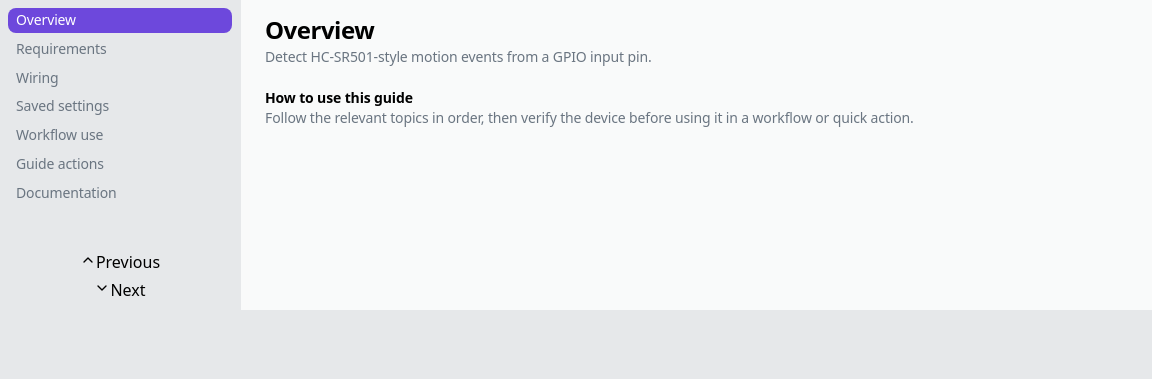
Test case: StandardDeviceSetupGuide › uses the configured PIR pin and shows GPIO debounce in saved settings
Click the button "Wiring": (120, 78) [8,66,232,90]
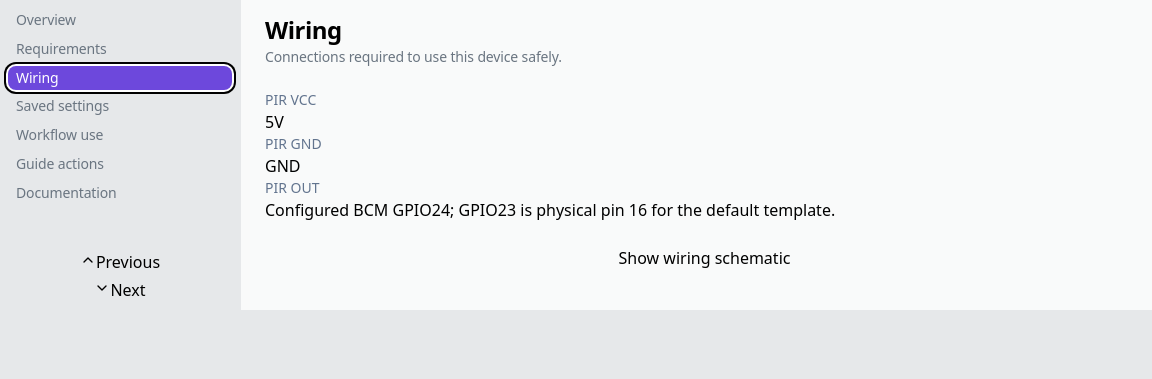
Now the text "Configured BCM GPIO24; GPIO23 is physical pin 16 for the default template." is shown, box [265,198,835,222]
Click the button "Saved settings": (120, 107) [8,94,232,119]
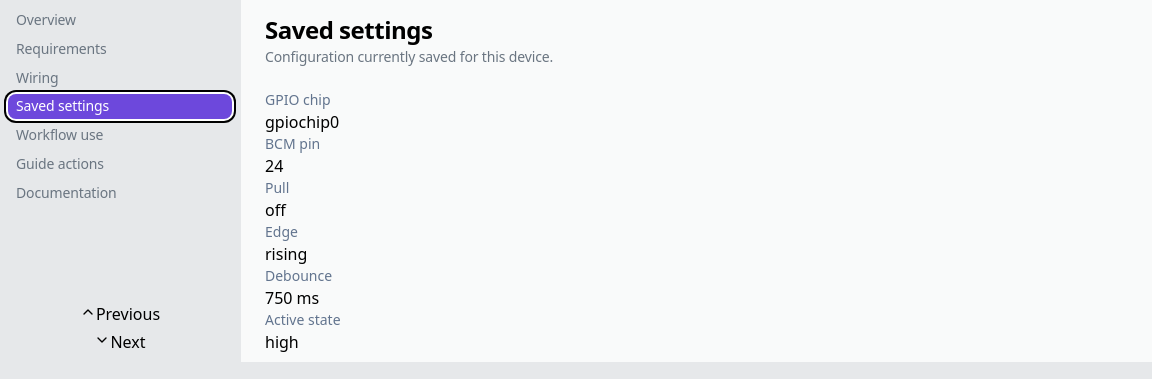
Now the text "750 ms" is shown, box [265,287,319,309]
